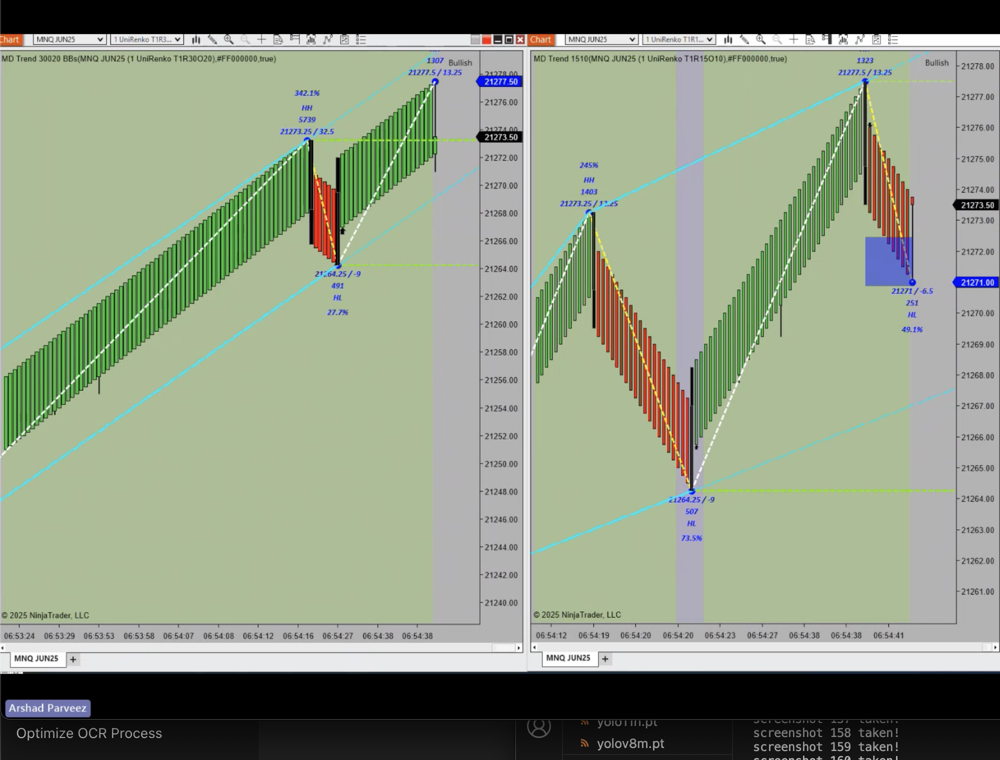HH: (294, 102, 321, 116), (577, 173, 600, 189)
HL: (680, 513, 706, 532), (901, 306, 926, 325), (328, 290, 350, 305)
